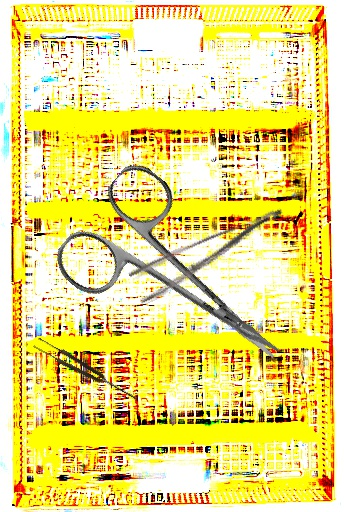Dressing Forceps: (126, 205, 296, 306)
Iris Scissors: (46, 156, 317, 412)
Tissue Forceps: (32, 335, 140, 406)
